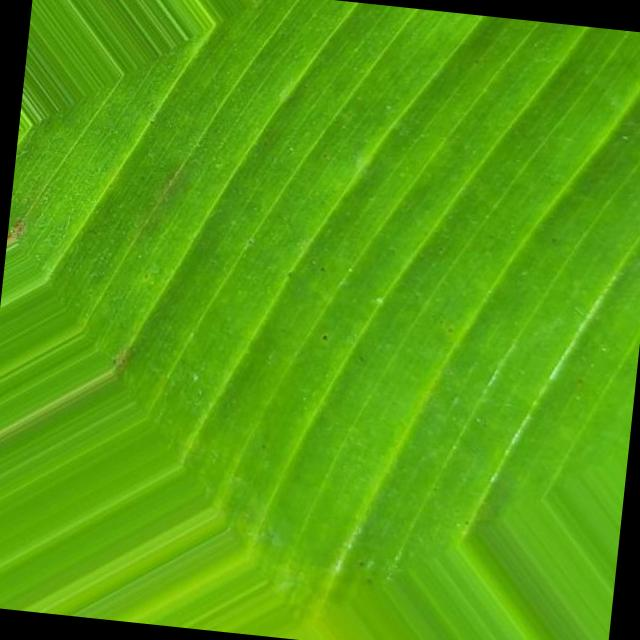Banana_Healthy: (136, 18, 610, 458)
